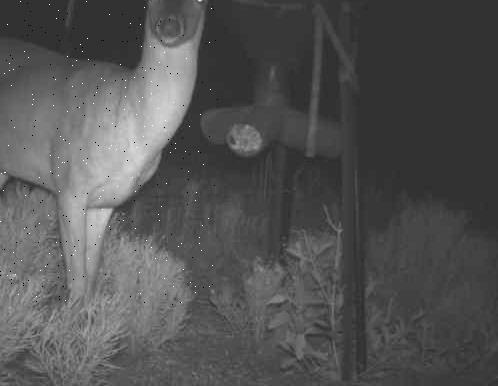Deer: (0, 0, 218, 305)
